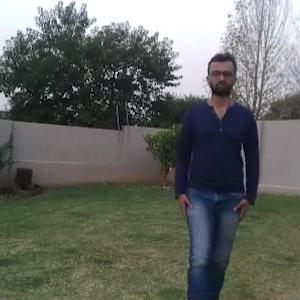follow: (179, 55, 254, 299)
